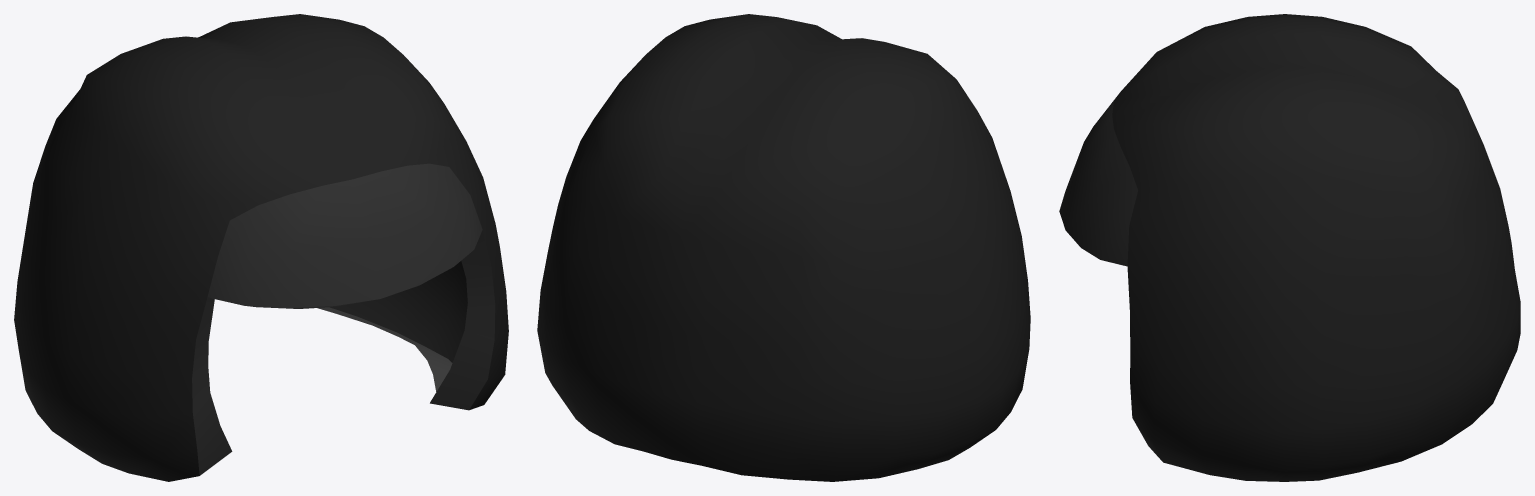
The model's file is PlayerLoraHair.fbx.
3 views of the same model, side by side, from view 1: azimuth 30°, elevation 25°; view 2: azimuth 150°, elevation 25°; view 3: azimuth 270°, elevation 25° (orthographic). The views are drawn at different scales.
Parts seen in each view (by area): view 1: PlayerLoraHair; view 2: PlayerLoraHair; view 3: PlayerLoraHair.
Boxes of the visible parts, left/top/right/bottom form: PlayerLoraHair: left=14, top=14, right=508, bottom=481; PlayerLoraHair: left=537, top=14, right=1030, bottom=481; PlayerLoraHair: left=1059, top=14, right=1520, bottom=481.
Bounding box in the file's own units: 76.72 × 60.45 × 73.1.
